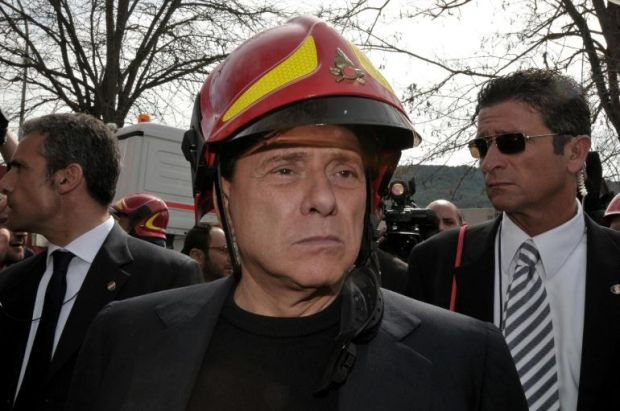helmet: (174, 17, 407, 147)
